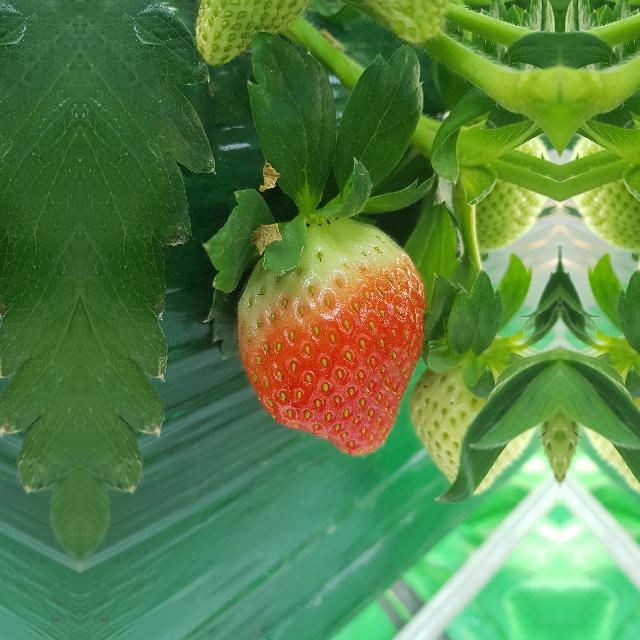Health_75: (236, 217, 427, 456)
